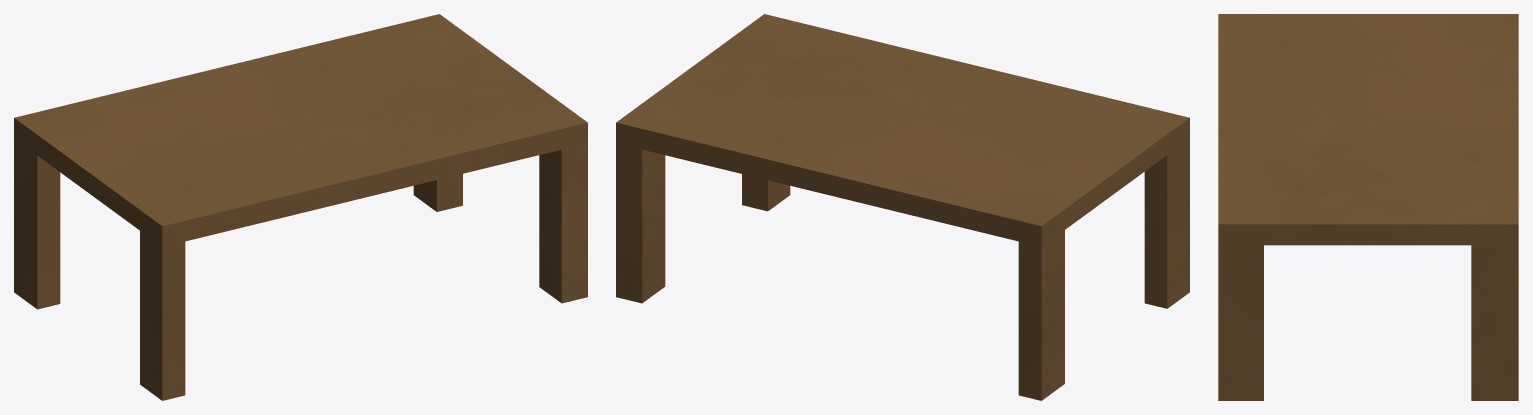
The model's file is Table_Fixed.fbx.
3 views of the same model, side by side, from view 1: azimuth 30°, elevation 25°; view 2: azimuth 150°, elevation 25°; view 3: azimuth 270°, elevation 25° (orthographic).
Visible parts, largest first — view 1: pCube19; view 2: pCube19; view 3: pCube19.
Part boxes in pixels (x1,y1,x2,y2): pCube19: (14,14,587,400); pCube19: (616,14,1189,400); pCube19: (1218,14,1518,400).
Bounding box in the file's own units: 166 × 64.99 × 100.
